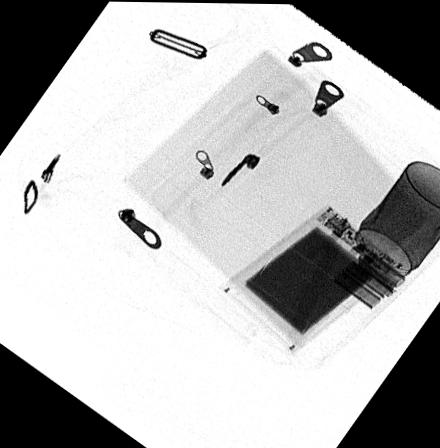Powerbank: (216, 202, 406, 354)
